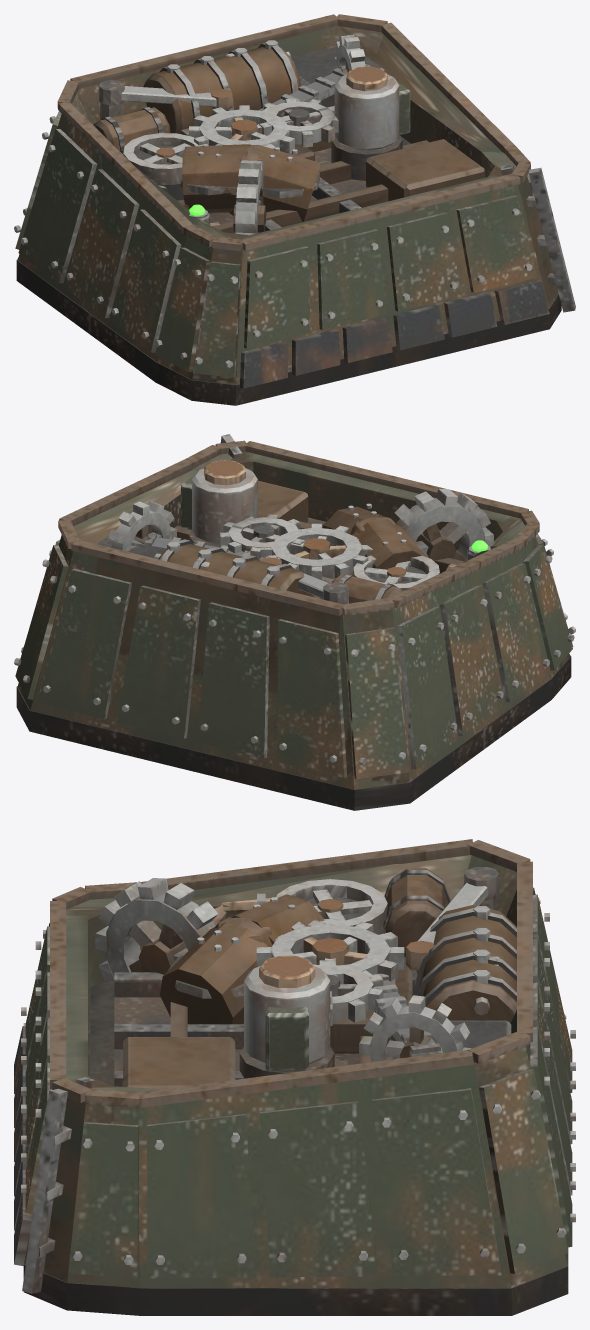
File: assembling-machine-1.glb
3 views of the same model, one above another, from view 1: azimuth 30°, elevation 25°; view 2: azimuth 150°, elevation 25°; view 3: azimuth 270°, elevation 25° (orthographic). The views are drawn at different scales.
Parts seen in each view (by area): view 1: body, anim_am1_press_e, anim_am1_gear_cw, anim_am1_gear_ce, anim_am1_gear_sw, anim_am1_arm_nw, anim_am1_gear_ne, anim_am1_fan_w; view 2: body, anim_am1_press_e, anim_am1_gear_sw, anim_am1_gear_cw, anim_am1_gear_ce, anim_am1_gear_ne, anim_am1_arm_nw, anim_am1_fan_w; view 3: body, anim_am1_press_e, anim_am1_gear_sw, anim_am1_gear_cw, anim_am1_gear_ne, anim_am1_gear_ce, anim_am1_arm_nw, anim_am1_fan_w.
Part boxes in pixels (x1,y1,x2,y2): body: (14,14,575,405); anim_am1_press_e: (334,66,410,150); anim_am1_gear_cw: (189,105,294,153); anim_am1_gear_ce: (259,98,338,147); anim_am1_gear_sw: (233,160,266,235); anim_am1_arm_nw: (99,80,232,110); anim_am1_gear_ne: (334,34,365,72); anim_am1_fan_w: (140,143,191,164); body: (14,434,575,810); anim_am1_press_e: (181,460,257,544); anim_am1_gear_sw: (394,489,493,561); anim_am1_gear_cw: (261,523,372,580); anim_am1_gear_ce: (219,514,304,559); anim_am1_gear_ne: (108,501,176,551); anim_am1_arm_nw: (260,557,348,604); anim_am1_fan_w: (364,561,426,583); body: (14,839,575,1315); anim_am1_press_e: (244,955,330,1071); anim_am1_gear_sw: (95,878,218,996); anim_am1_gear_cw: (256,919,404,983); anim_am1_gear_ne: (359,995,471,1062); anim_am1_gear_ce: (314,960,383,1025); anim_am1_arm_nw: (406,867,498,970); anim_am1_fan_w: (313,889,372,920).
Bounding box in the file's own units: 2.82 × 1.39 × 2.6.
2 materials, 2 textured.
